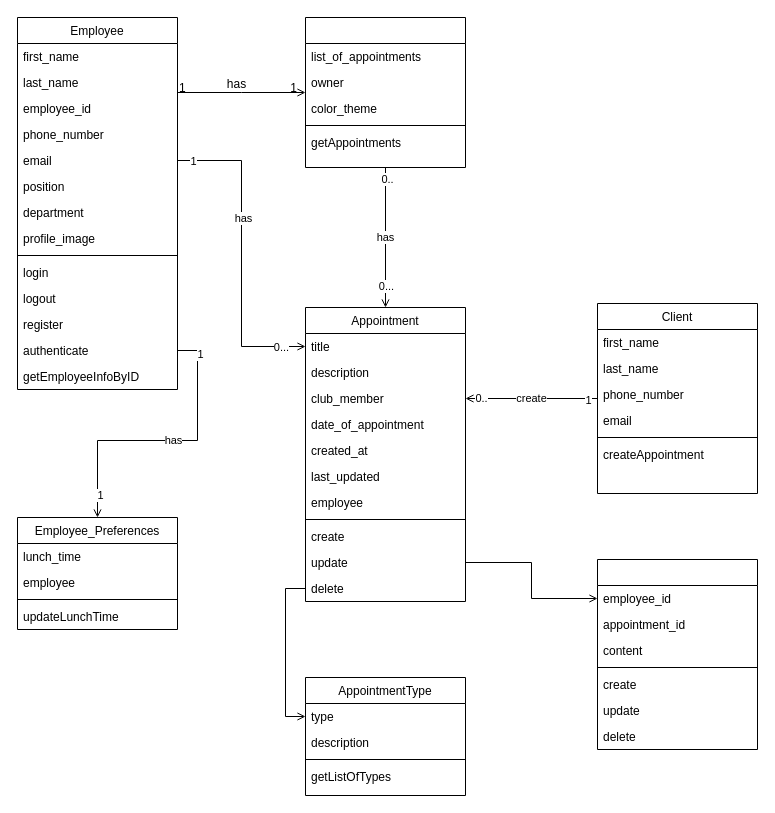
The diagram is 775 pixels wide and 813 high, and some of its shapes have lost their labels. Here are the shapes that lost their labels. From the top down, the box of each, then its label:
(304, 16, 466, 168): TimeTable
(596, 558, 758, 750): AppointmentNote
